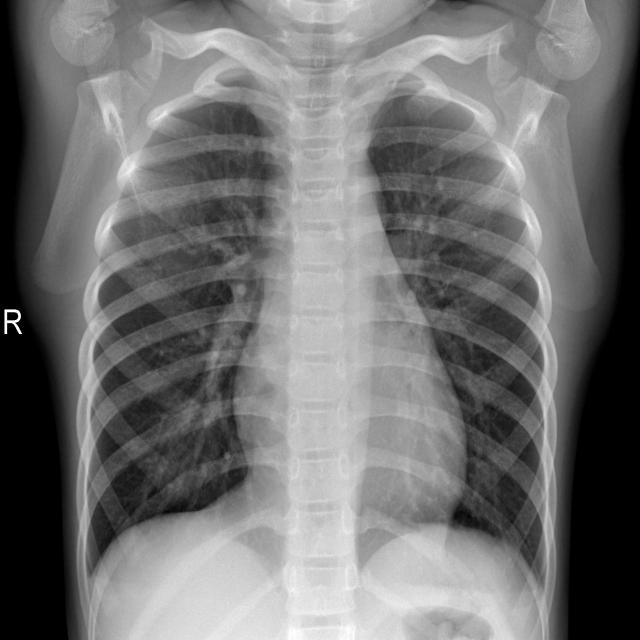no-pneumonia: (80, 82, 286, 572), (369, 95, 557, 582)
